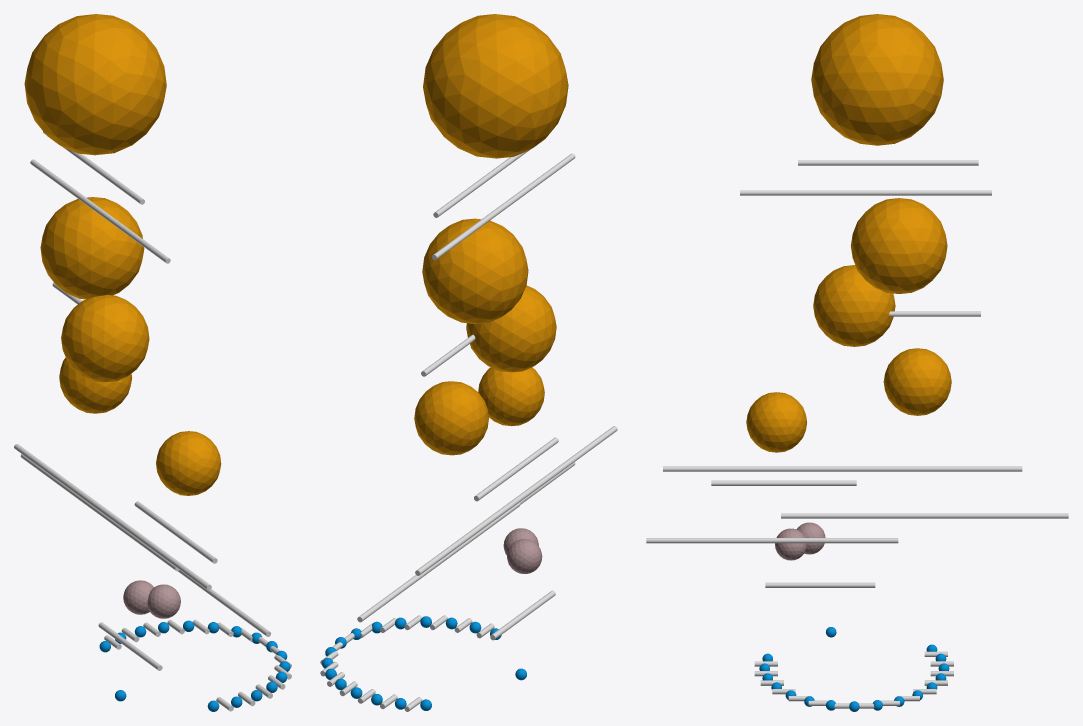
Rendered from commit_sculpture_rhythmic.glb.
3 views of the same model, side by side, from view 1: azimuth 30°, elevation 25°; view 2: azimuth 150°, elevation 25°; view 3: azimuth 270°, elevation 25° (orthographic). The views are drawn at different scales.
Parts seen in each view (by area): view 1: world; view 2: world; view 3: world.
Part boxes in pixels (box(x1,y1,x2,y2)): world: box(14, 14, 291, 711); world: box(320, 14, 617, 711); world: box(646, 14, 1068, 711).
Size of the model in its own units: 13.83 by 38 by 23.57.
